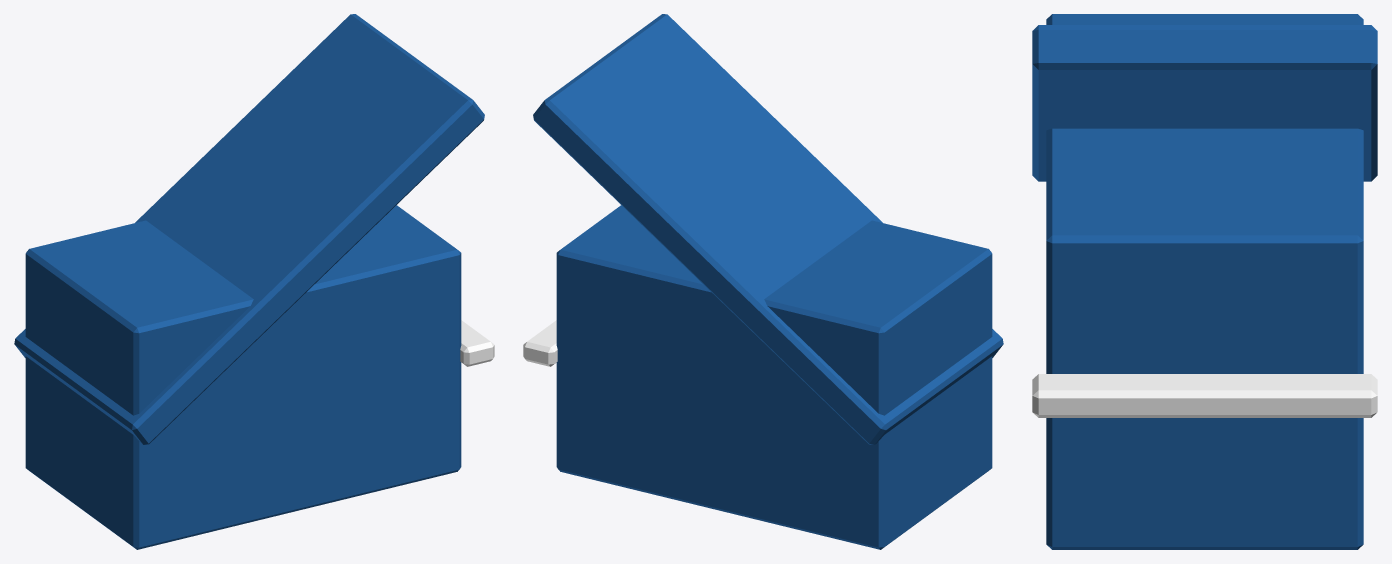
The model's file is ramp_steep.glb.
3 views of the same model, side by side, from view 1: azimuth 30°, elevation 25°; view 2: azimuth 150°, elevation 25°; view 3: azimuth 270°, elevation 25° (orthographic). The views are drawn at different scales.
Visible parts, largest first — view 1: ramp_steep; view 2: ramp_steep; view 3: ramp_steep.
Boxes of the visible parts, x1,y1,x2,y2 form: ramp_steep: [14, 14, 494, 549]; ramp_steep: [523, 14, 1003, 549]; ramp_steep: [1032, 14, 1377, 549].
Size of the model in its own units: 0.5844 by 0.5751 by 0.34.
